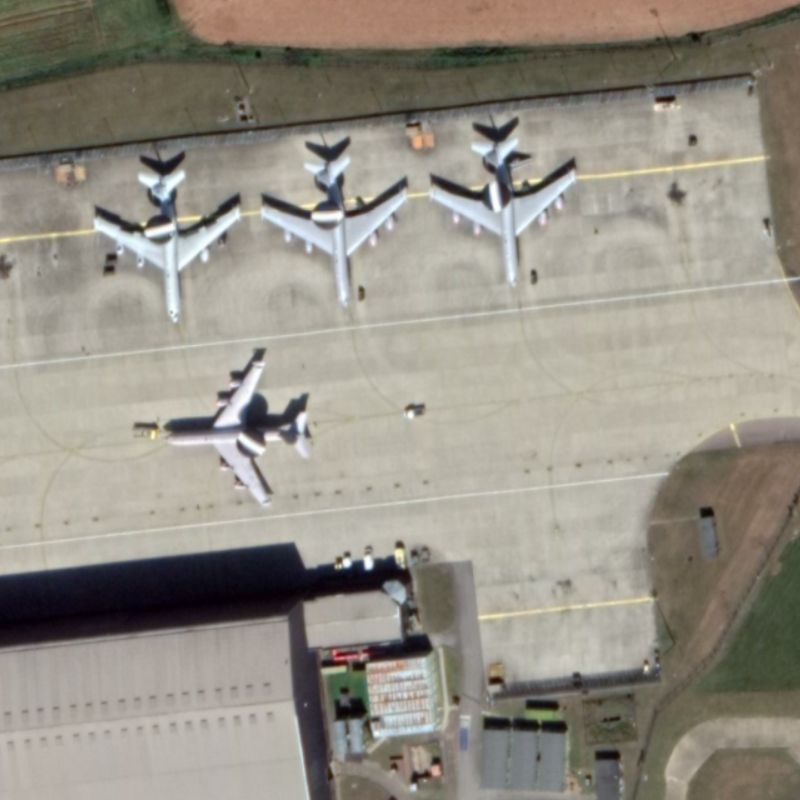A7: (158, 347, 334, 512), (417, 130, 587, 300), (82, 163, 249, 333), (253, 152, 417, 317)
